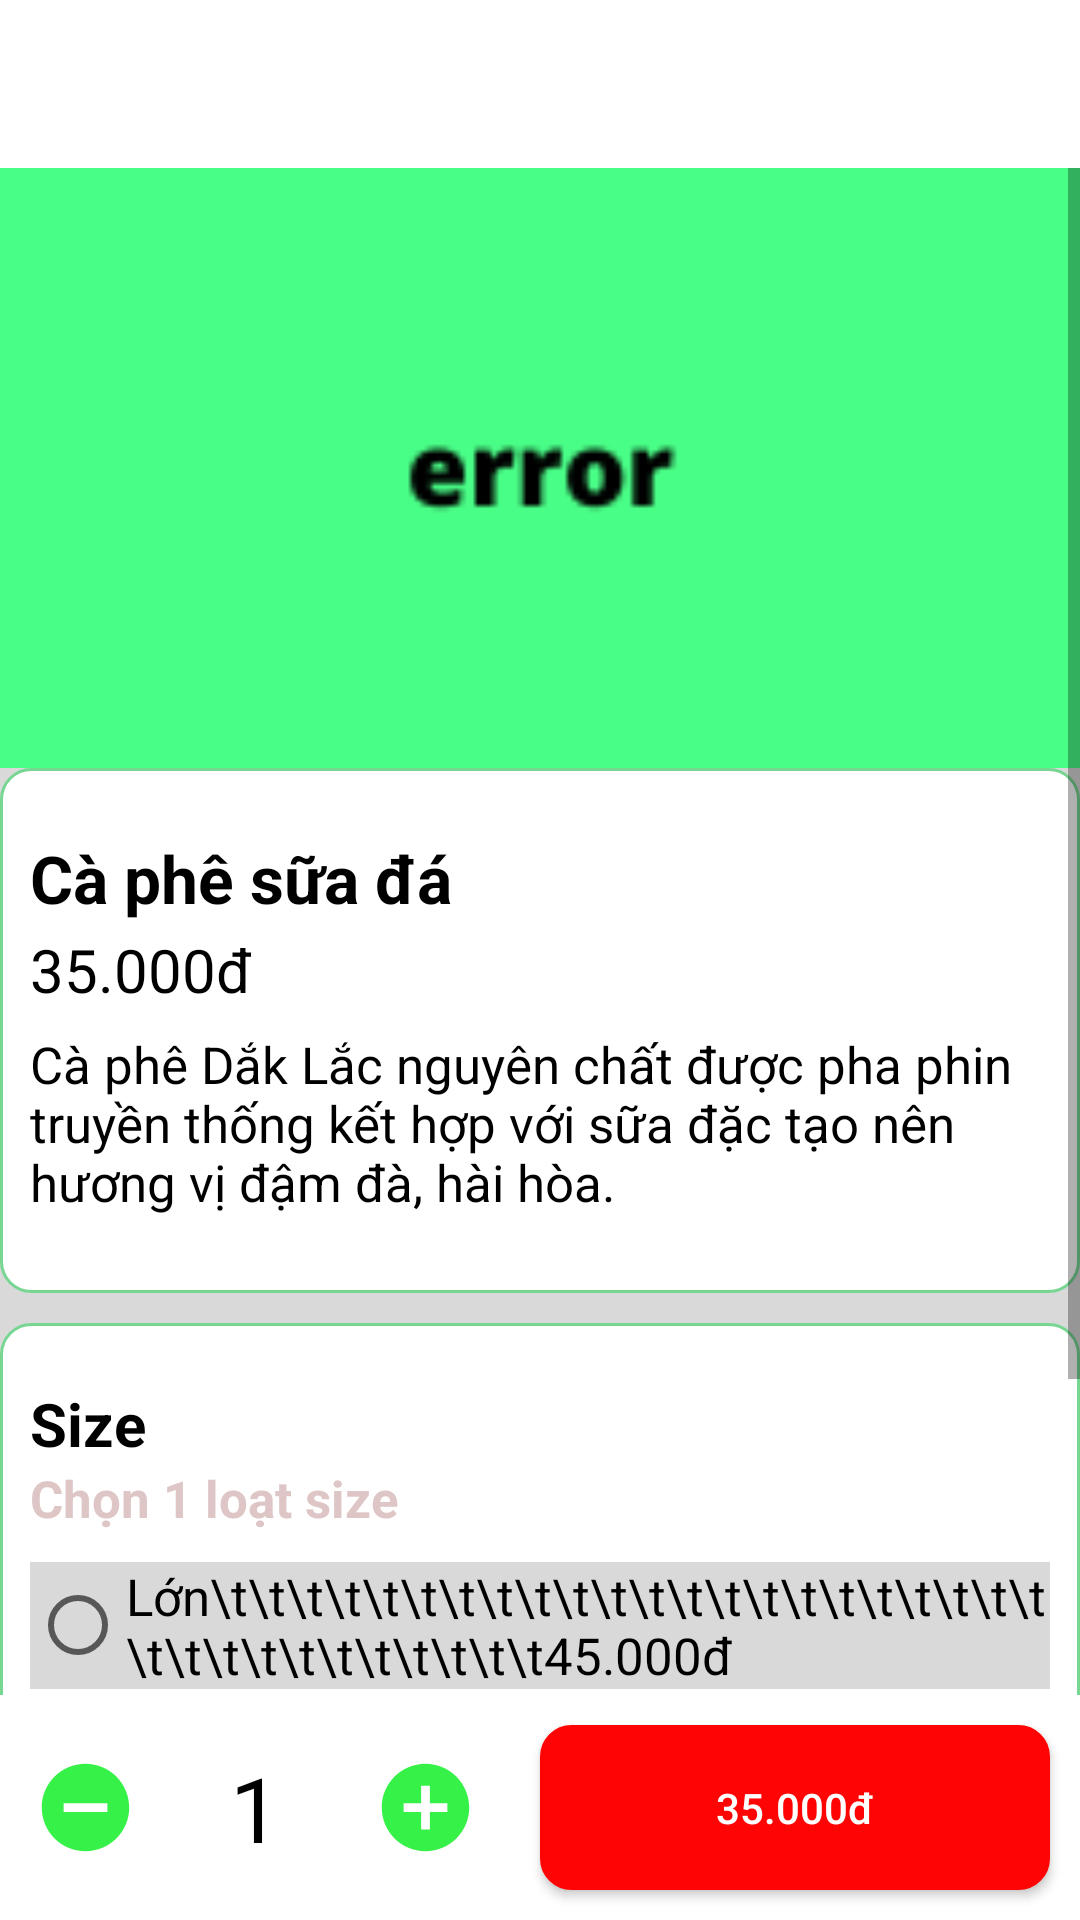

Screen size 1080w x 1920h. Icon name, then its box in pixels as bbox=(x1, y1, x2, y2):
add: bbox=(381, 1763, 470, 1852)
remove: bbox=(41, 1763, 130, 1852)
